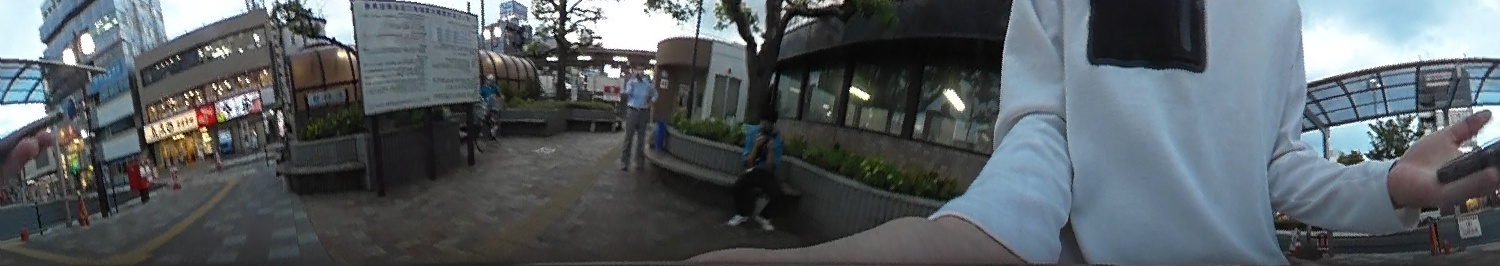difficult_person: (474, 67, 505, 129), (269, 123, 294, 168)
person: (730, 103, 789, 232), (613, 54, 662, 181)
